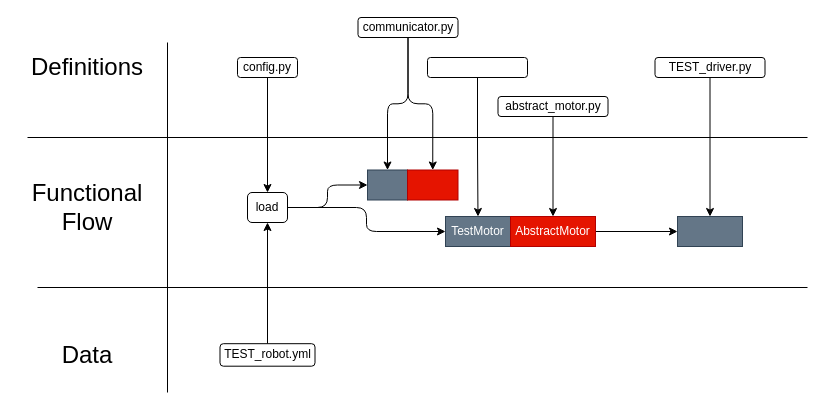
Image size: 826x411. Some labels were removed from this diagram. Here are the shapes that lost their labels. From the top down, the centre of each, then its label:
At [477,67]: "TEST_motor.py".
At [387,184]: "lcm".
At [432,184]: "Protocol".
At [709,231]: "TestDriver".
